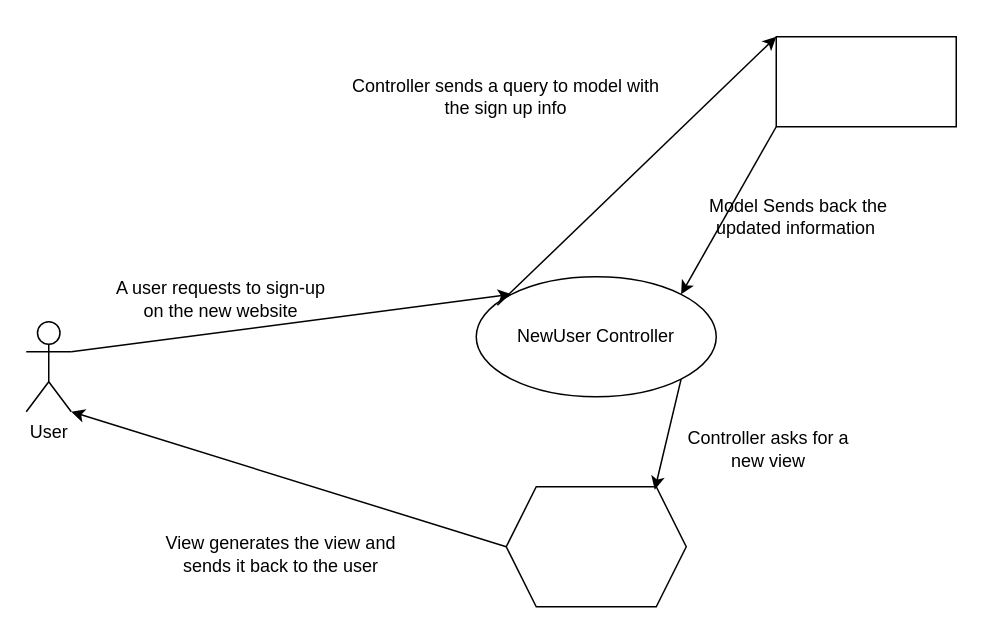
Some shapes in this 983 by 633 pixel diagram are drawn without their labels. Here are the shapes that lost their labels. From the top down, the box of each, then its label:
(775, 35, 956, 127): User SIgn-up
(505, 485, 686, 607): Account Registration View
